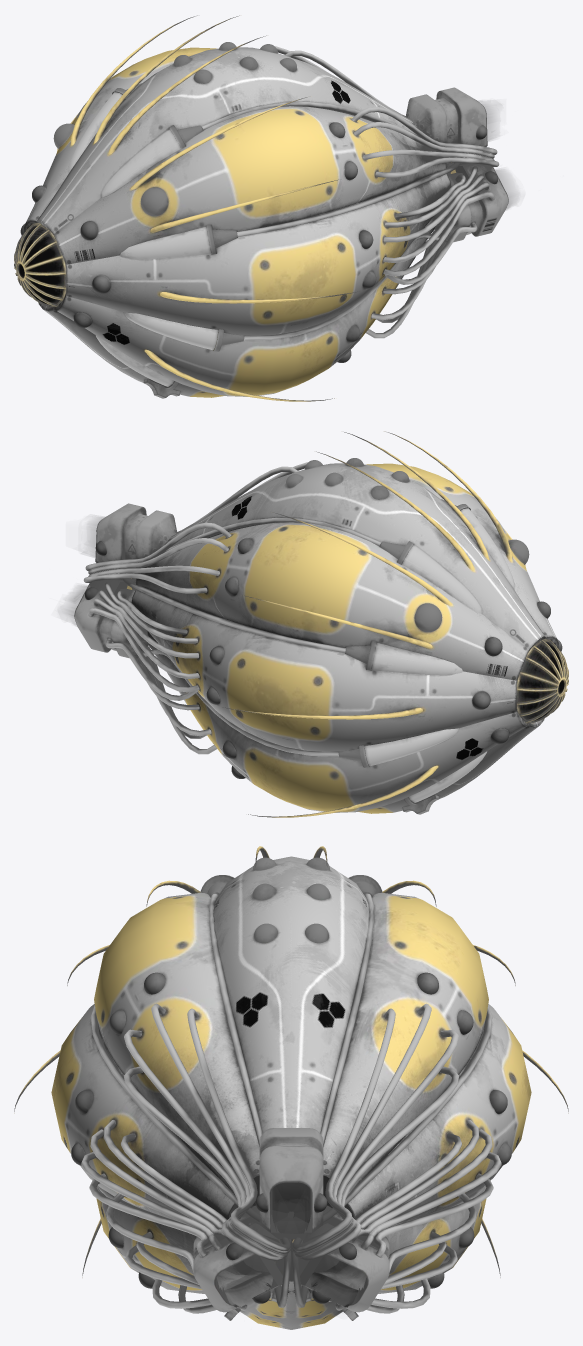
The model's file is personal-pod-detail.glb.
3 renders of one model, top to bottom at view 1: azimuth 30°, elevation 25°; view 2: azimuth 150°, elevation 25°; view 3: azimuth 270°, elevation 25°, orthographic. The views are drawn at different scales.
Visible parts, largest first — view 1: personal-pod; view 2: personal-pod; view 3: personal-pod.
Boxes of the visible parts, <box> form: personal-pod: <box>14,15,519,401</box>; personal-pod: <box>58,431,568,817</box>; personal-pod: <box>14,846,568,1329</box>.
Size of the model in its own units: 18 by 11.59 by 12.57.
Materials: 2 (2 with a texture image).
